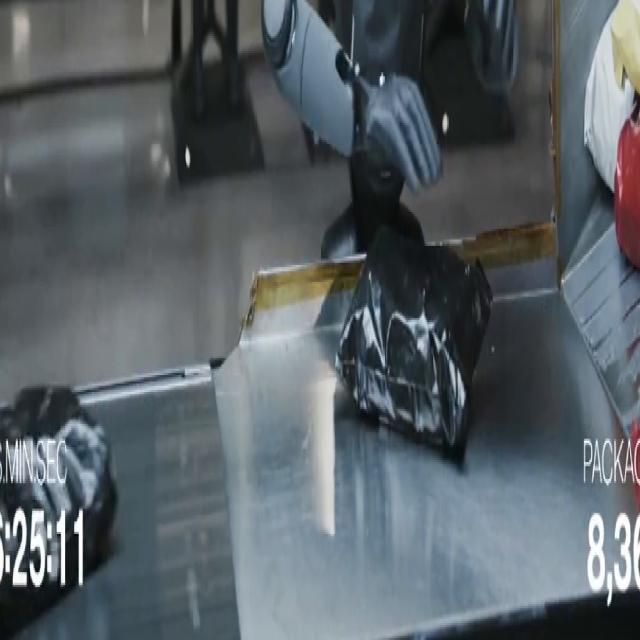package: (336, 229, 492, 461), (0, 388, 117, 637), (584, 15, 634, 192), (614, 102, 639, 269), (611, 0, 639, 93), (630, 420, 639, 510)
